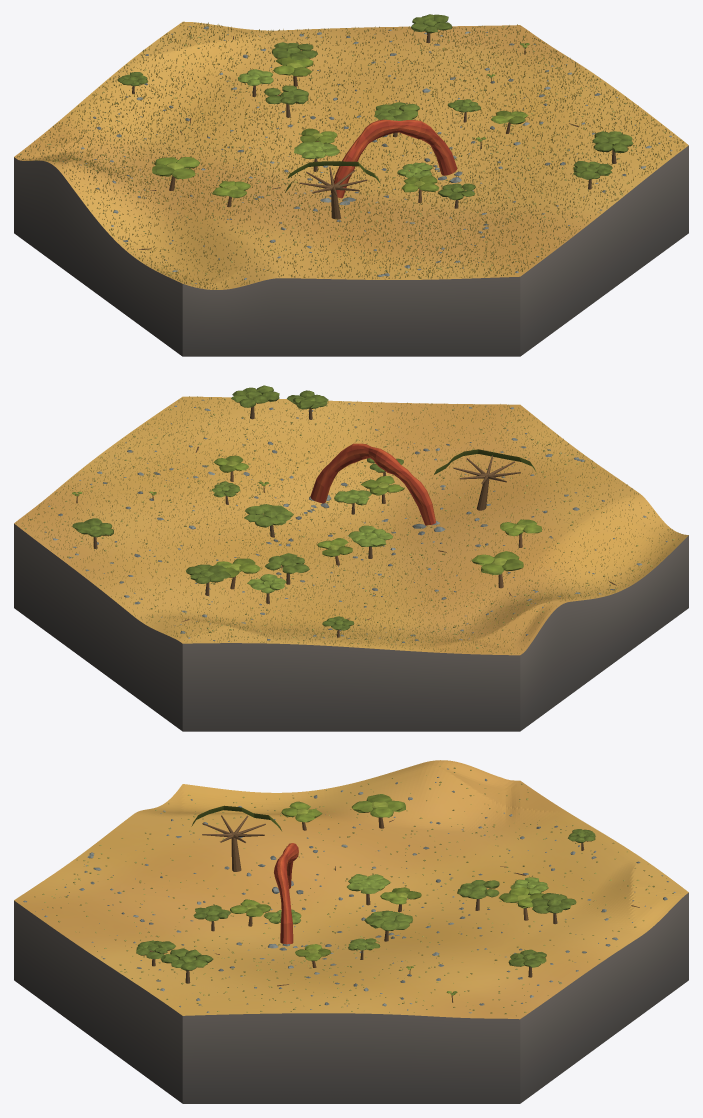
3 views of the same model, one above another, from view 1: azimuth 30°, elevation 25°; view 2: azimuth 150°, elevation 25°; view 3: azimuth 270°, elevation 25° (orthographic).
Visible parts, largest first — view 1: terrain, hex_side_cut, wildflowers, broadleaf_canopy, rock_escarpments, shrubs, boulders, trunks, branches; view 2: terrain, hex_side_cut, wildflowers, broadleaf_canopy, rock_escarpments, shrubs, boulders, trunks, branches; view 3: terrain, hex_side_cut, broadleaf_canopy, shrubs, boulders, rock_escarpments, trunks, branches.
Boxes of the visible parts, bbox=[...] form: terrain: bbox=[14, 21, 688, 289]; hex_side_cut: bbox=[14, 145, 688, 356]; wildflowers: bbox=[16, 22, 684, 289]; broadleaf_canopy: bbox=[117, 14, 632, 200]; rock_escarpments: bbox=[334, 119, 457, 198]; shrubs: bbox=[20, 23, 665, 288]; boulders: bbox=[63, 26, 672, 283]; trunks: bbox=[132, 33, 616, 219]; branches: bbox=[139, 36, 578, 249]; terrain: bbox=[14, 396, 688, 655]; hex_side_cut: bbox=[14, 523, 688, 731]; wildflowers: bbox=[16, 396, 685, 653]; broadleaf_canopy: bbox=[72, 385, 542, 630]; rock_escarpments: bbox=[310, 443, 436, 525]; shrubs: bbox=[22, 399, 674, 654]; boulders: bbox=[44, 399, 667, 644]; trunks: bbox=[76, 406, 522, 637]; branches: bbox=[181, 446, 616, 621]; terrain: bbox=[14, 760, 688, 1019]; hex_side_cut: bbox=[14, 892, 688, 1103]; broadleaf_canopy: bbox=[136, 794, 595, 995]; shrubs: bbox=[34, 766, 680, 1015]; boulders: bbox=[23, 768, 675, 1013]; rock_escarpments: bbox=[274, 843, 298, 944]; trunks: bbox=[152, 817, 584, 1002]; branches: bbox=[150, 815, 639, 993].
Size of the model in its own units: 4330 by 1104 by 5000.
